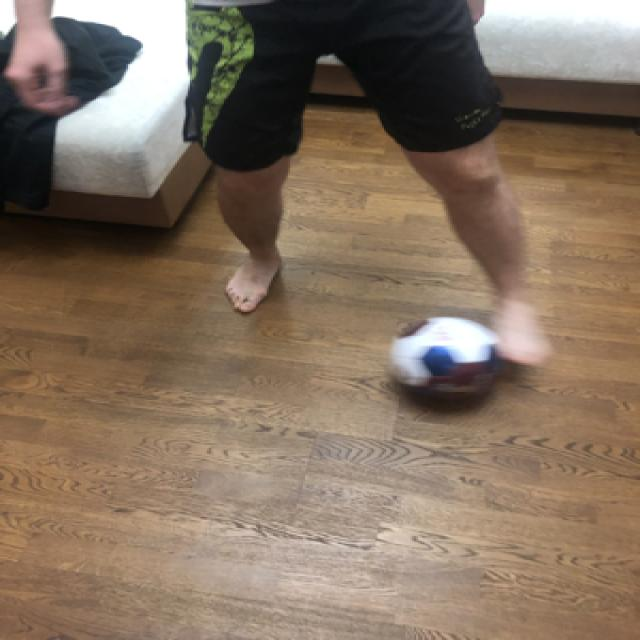soccer_ball: (382, 314, 501, 400)
